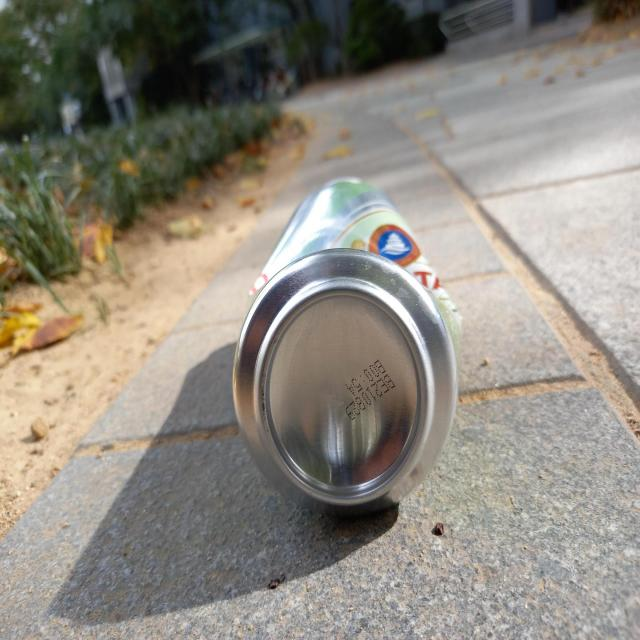can: (233, 177, 461, 516)
